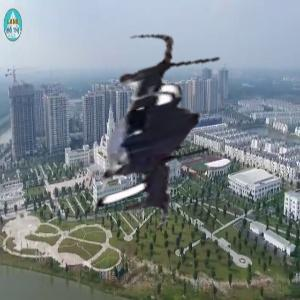drone: (45, 29, 262, 246)
